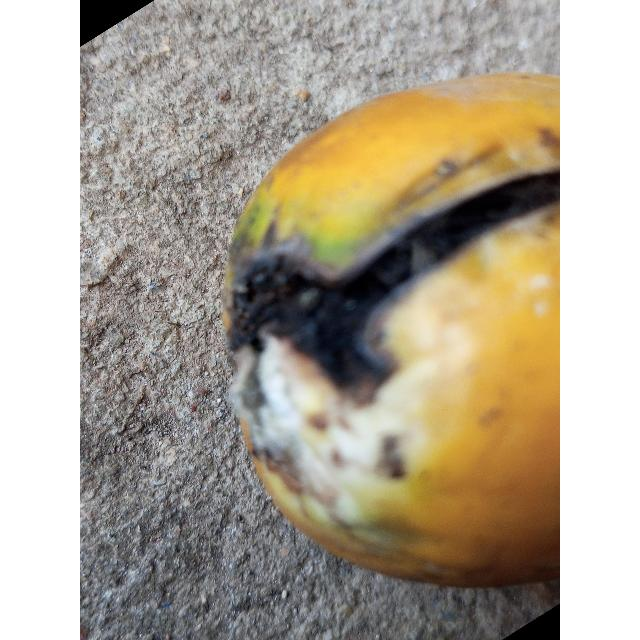damaged: (223, 73, 560, 592)
